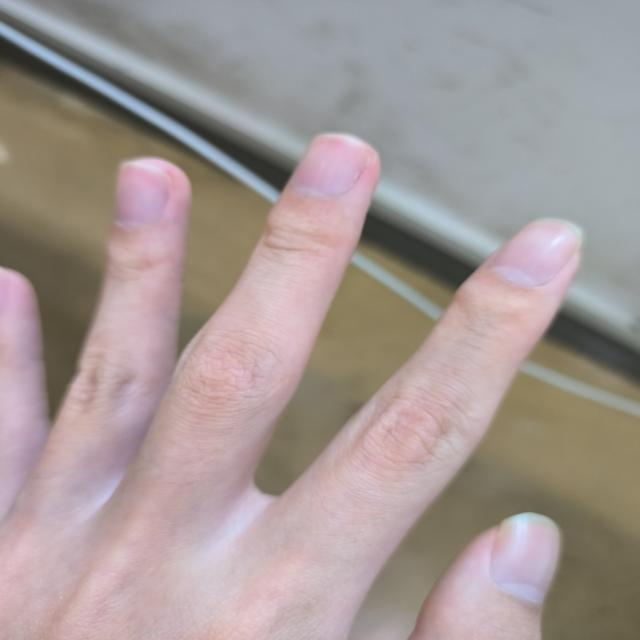Nail: (491, 514, 561, 606), (489, 219, 581, 286), (292, 134, 370, 197), (117, 163, 173, 229)
